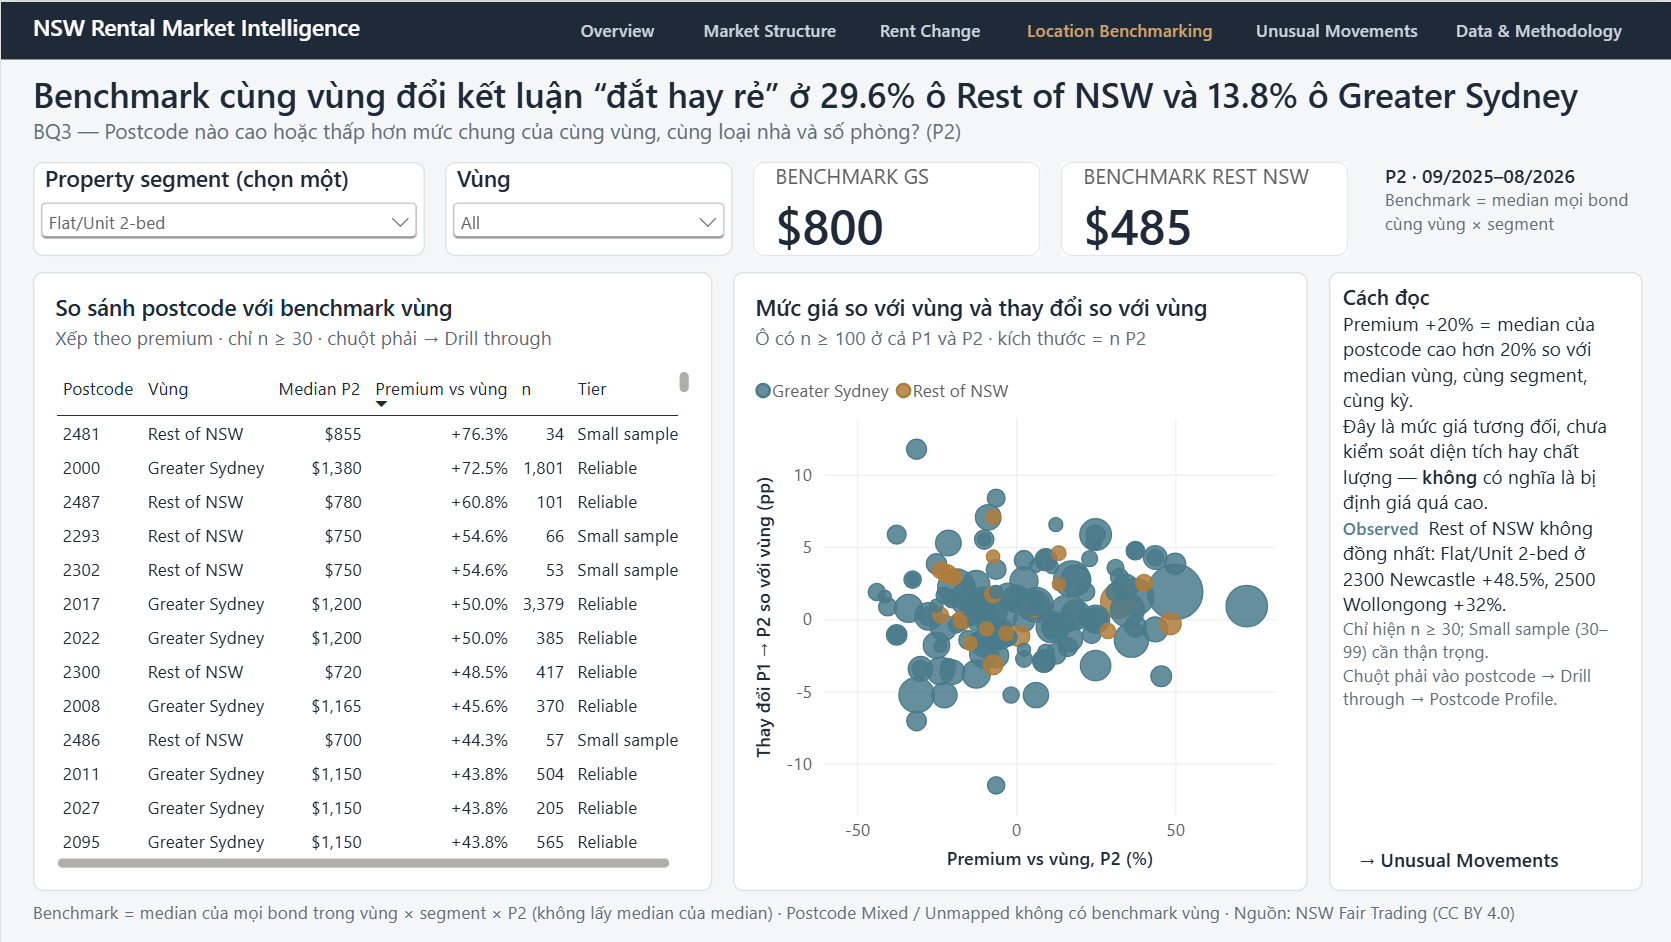

The dashboard page shown, as its layout file describes it:
{"tool":"powerbi","page":{"name":"Location Benchmarking","canvas":[1280,720],"ordinal":3},"visuals":[{"type":"textbox","box":[0,0,1280,44],"z":1000},{"type":"textbox","box":[24,8,380,30],"z":1001},{"type":"actionButton","box":[424,6,96,32],"z":1002},{"type":"actionButton","box":[520,6,136,32],"z":1002},{"type":"actionButton","box":[656,6,112,32],"z":1002},{"type":"actionButton","box":[768,6,176,32],"z":1002},{"type":"actionButton","box":[944,6,156,32],"z":1002},{"type":"actionButton","box":[1100,6,156,32],"z":1002},{"type":"textbox","box":[24,52,1232,36],"z":2000},{"type":"textbox","box":[24,88,1232,26],"z":2000},{"type":"slicer","fields":{"Values":["dim_segment.segment_label"]},"box":[24,122,300,72],"z":3000},{"type":"slicer","fields":{"Values":["dim_postcode.region"]},"box":[340,122,220,72],"z":3000},{"type":"cardVisual","fields":{"Data":["fact_lodgements.Regional Benchmark"]},"box":[576,122,220,72],"z":4000},{"type":"cardVisual","fields":{"Data":["fact_lodgements.Regional Benchmark"]},"box":[812,122,220,72],"z":4000},{"type":"textbox","box":[1060,122,196,72],"z":4000},{"type":"tableEx","title":"So sánh postcode với benchmark vùng","fields":{"Values":["dim_postcode.postcode","dim_postcode.region","fact_lodgements.Median Rent (reported)","fact_lodgements.Local Rent Premium %","fact_lodgements.Valid Sample Size","fact_lodgements.Sample Tier"]},"box":[24,206,520,474],"z":5000},{"type":"scatterChart","title":"Mức giá so với vùng và thay đổi so với vùng","fields":{"Category":["dim_postcode.postcode"],"Series":["dim_postcode.region"],"Size":["Sum(mart_movement_screen.n_p2)"],"X":["Sum(mart_movement_screen.premium_p2_pct)"],"Y":["Sum(mart_movement_screen.deviation_pp)"]},"box":[560,206,440,474],"z":6000},{"type":"textbox","box":[1016,206,240,474],"z":7000},{"type":"textbox","box":[1028,214,216,458],"z":7001},{"type":"actionButton","box":[1028,640,220,28],"z":7002},{"type":"textbox","box":[24,688,1232,26],"z":30000}]}

Visuals, with their boxes in screenshot pixels (x1, y1, x2, y2), scaled from the page's 1280x720 canvas onto the 1671x942 screenshot:
textbox: {"left": 0, "top": 0, "right": 1670, "bottom": 58}
textbox: {"left": 31, "top": 10, "right": 527, "bottom": 50}
actionButton: {"left": 554, "top": 8, "right": 679, "bottom": 50}
actionButton: {"left": 679, "top": 8, "right": 856, "bottom": 50}
actionButton: {"left": 856, "top": 8, "right": 1003, "bottom": 50}
actionButton: {"left": 1003, "top": 8, "right": 1232, "bottom": 50}
actionButton: {"left": 1232, "top": 8, "right": 1436, "bottom": 50}
actionButton: {"left": 1436, "top": 8, "right": 1640, "bottom": 50}
textbox: {"left": 31, "top": 68, "right": 1640, "bottom": 115}
textbox: {"left": 31, "top": 115, "right": 1640, "bottom": 149}
slicer - dim_segment.segment_label: {"left": 31, "top": 160, "right": 423, "bottom": 254}
slicer - dim_postcode.region: {"left": 444, "top": 160, "right": 731, "bottom": 254}
cardVisual - fact_lodgements.Regional Benchmark: {"left": 752, "top": 160, "right": 1039, "bottom": 254}
cardVisual - fact_lodgements.Regional Benchmark: {"left": 1060, "top": 160, "right": 1347, "bottom": 254}
textbox: {"left": 1384, "top": 160, "right": 1640, "bottom": 254}
"So sánh postcode với benchmark vùng" tableEx: {"left": 31, "top": 270, "right": 710, "bottom": 890}
"Mức giá so với vùng và thay đổi so với vùng" scatterChart: {"left": 731, "top": 270, "right": 1305, "bottom": 890}
textbox: {"left": 1326, "top": 270, "right": 1640, "bottom": 890}
textbox: {"left": 1342, "top": 280, "right": 1624, "bottom": 879}
actionButton: {"left": 1342, "top": 837, "right": 1629, "bottom": 874}
textbox: {"left": 31, "top": 900, "right": 1640, "bottom": 934}
